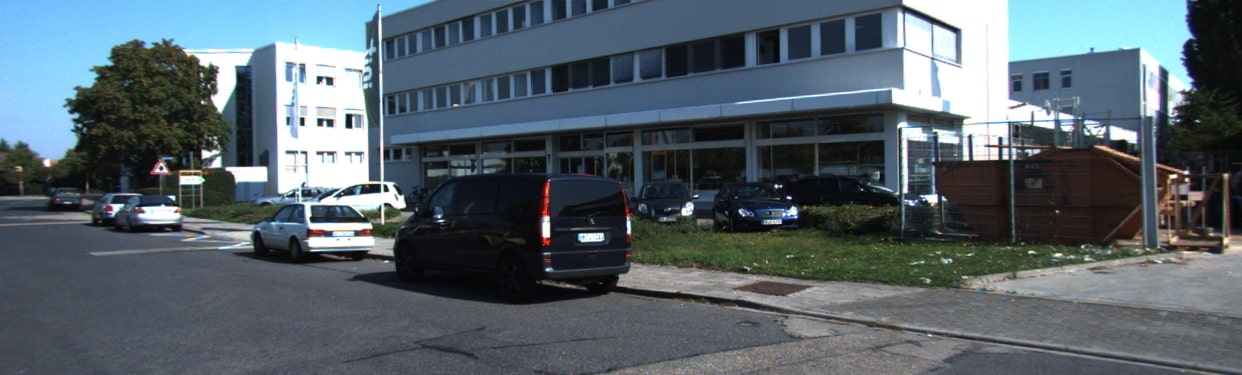car: (388, 172, 630, 292), (243, 198, 374, 262), (713, 178, 793, 250), (637, 169, 693, 232), (118, 188, 185, 237), (330, 179, 399, 209), (90, 185, 127, 226), (48, 188, 80, 210)
